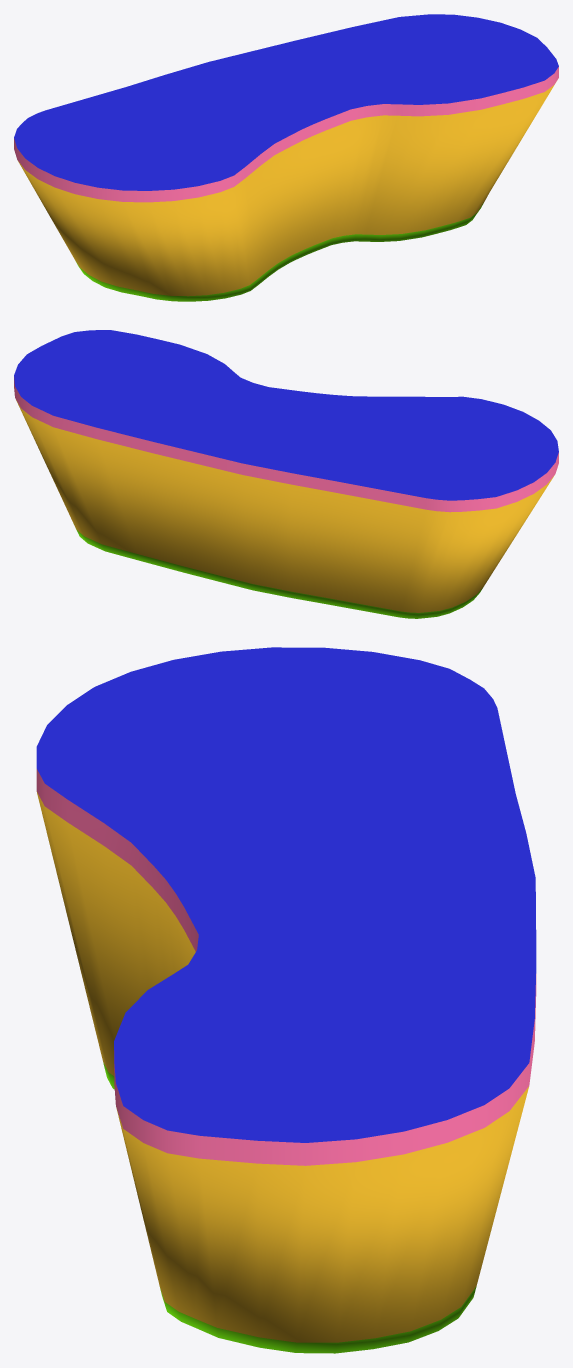
File: table_large.fbx
3 views of the same model, one above another, from view 1: azimuth 30°, elevation 25°; view 2: azimuth 150°, elevation 25°; view 3: azimuth 270°, elevation 25° (orthographic). The views are drawn at different scales.
Visible parts, largest first — view 1: Circle; view 2: Circle; view 3: Circle.
Part boxes in pixels (bbox=[...]): Circle: bbox=[14, 14, 558, 301]; Circle: bbox=[14, 330, 558, 618]; Circle: bbox=[36, 647, 536, 1353].
Bounding box in the file's own units: 646 × 166 × 276.
